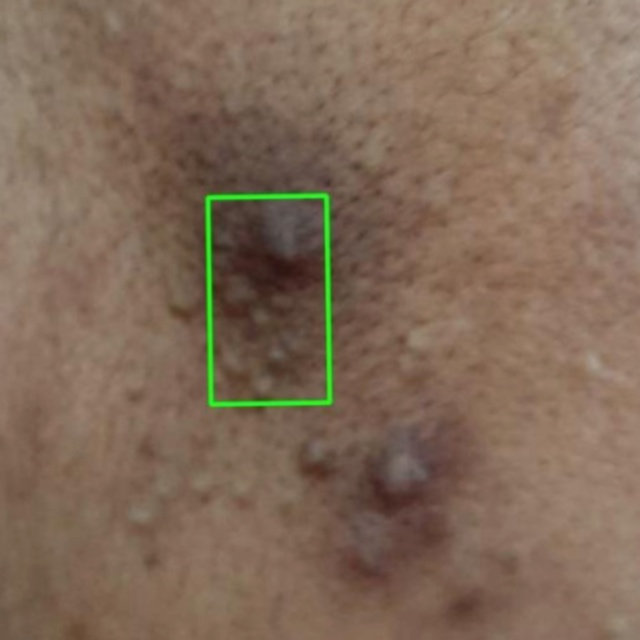Tinea Corporis: (208, 195, 329, 404)
